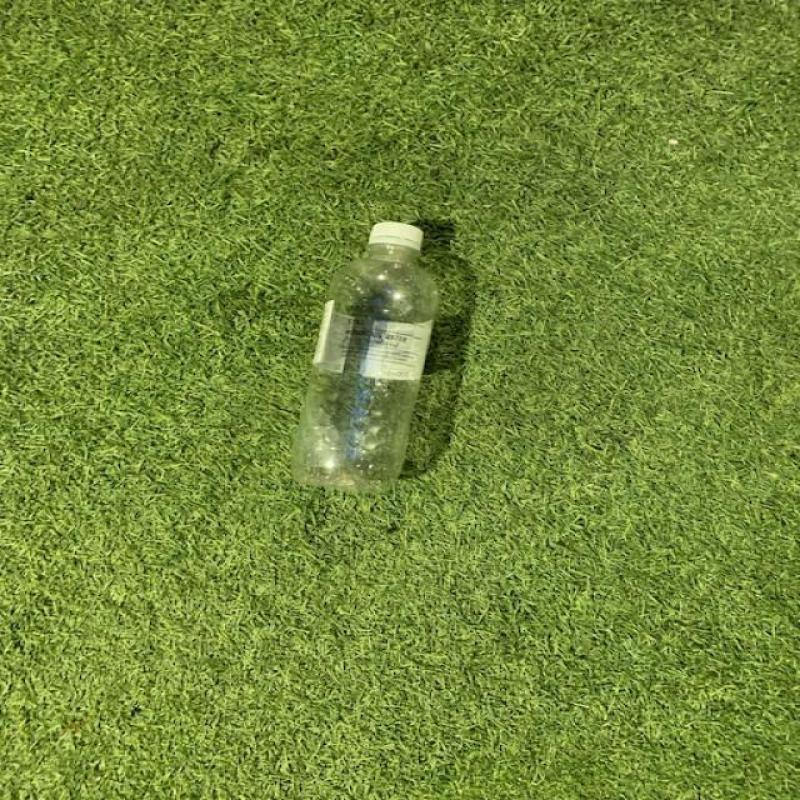botella: (291, 222, 439, 494)
